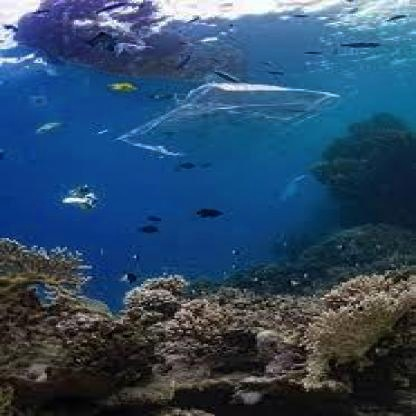pbag: (109, 81, 344, 166)
